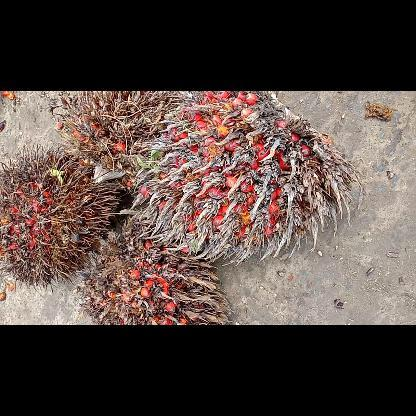Terlalu masak: (128, 91, 366, 268), (0, 138, 126, 292), (76, 228, 238, 324), (54, 91, 188, 189)
